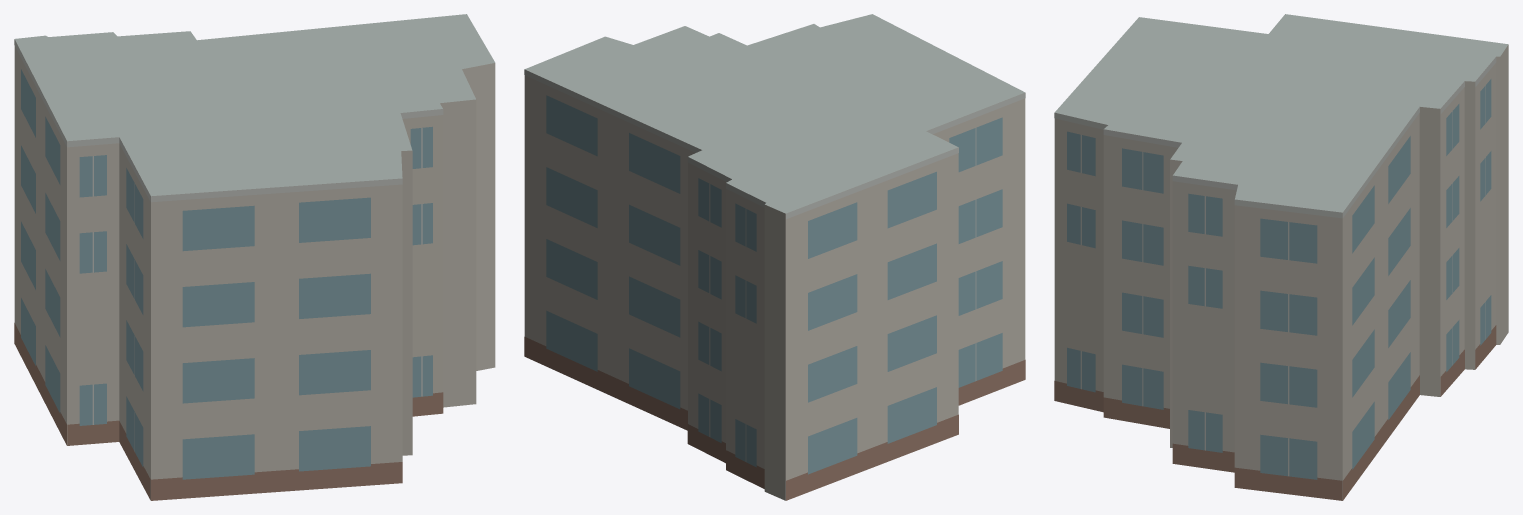
File: survey-upis-32672699.glb
3 views of the same model, side by side, from view 1: azimuth 30°, elevation 25°; view 2: azimuth 150°, elevation 25°; view 3: azimuth 270°, elevation 25° (orthographic). The views are drawn at different scales.
Visible parts, largest first — view 1: survey-upis-32672699.tmp; view 2: survey-upis-32672699.tmp; view 3: survey-upis-32672699.tmp.
Boxes of the visible parts, box(x1,y1,x2,y2) form: survey-upis-32672699.tmp: box(14, 14, 495, 500); survey-upis-32672699.tmp: box(524, 14, 1025, 500); survey-upis-32672699.tmp: box(1054, 14, 1508, 500).
Bounding box in the file's own units: 18.04 × 12.2 × 17.43.
